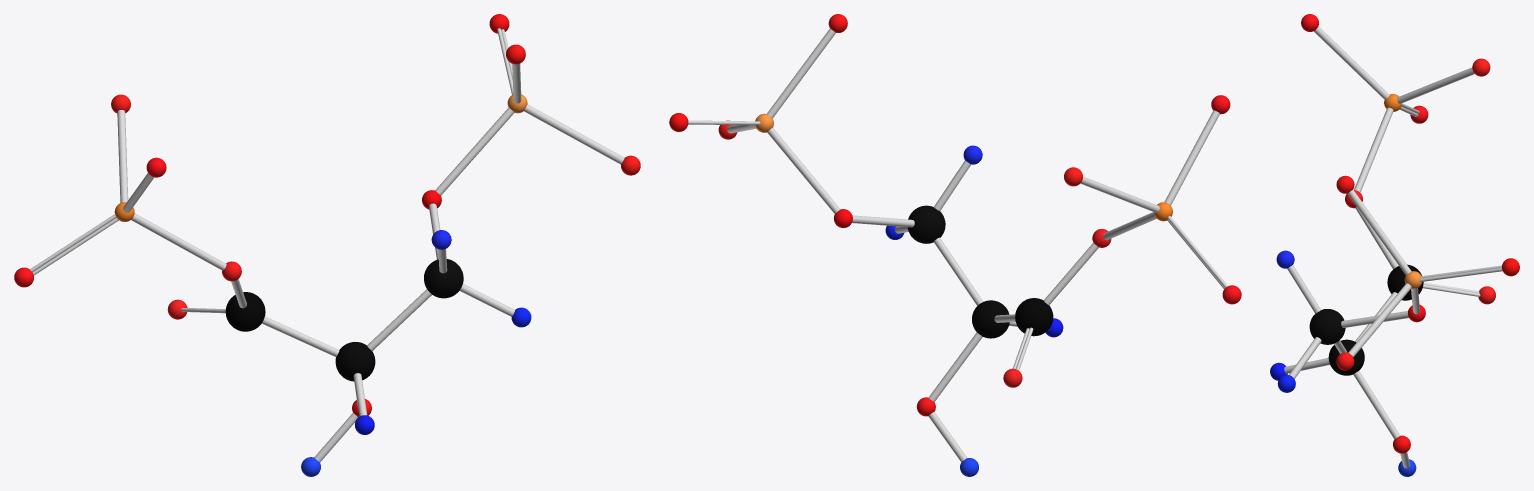
Rendered from 1,3.Bisphospholycerate.fbx.
3 views of the same model, side by side, from view 1: azimuth 30°, elevation 25°; view 2: azimuth 150°, elevation 25°; view 3: azimuth 270°, elevation 25° (orthographic). The views are drawn at different scales.
Parts seen in each view (by area): view 1: Atom6_Clone_, Atom6_Clone___1_, Atom6_Clone___2_, Bond1_Clone___2_, Bond1_Clone_, Bond1_Clone___3_, Bond1_Clone___4_, Bond1_Clone___15_, Bond1_Clone___14_; view 2: Atom6_Clone___2_, Atom6_Clone___1_, Atom6_Clone_, Bond1_Clone___1_, Bond1_Clone_, Bond1_Clone___5_, Bond1_Clone___4_, Bond1_Clone___7_, Bond1_Clone___14_, Bond1_Clone___9_; view 3: Atom6_Clone___1_, Bond1_Clone___1_, Bond1_Clone___5_, Bond1_Clone___2_, Bond1_Clone___3_, Atom6_Clone_, Bond1_Clone___4_, Bond1_Clone___7_, Atom6_Clone___2_, Bond1_Clone___6_, Bond1_Clone___17_, Bond1_Clone___9_ (+5 smaller).
Part boxes in pixels (box(x1,y1,x2,y2)): Atom6_Clone_: box(335, 342, 375, 381); Atom6_Clone___1_: box(424, 259, 463, 298); Atom6_Clone___2_: box(225, 292, 265, 331); Bond1_Clone___2_: box(524, 104, 624, 164); Bond1_Clone_: box(435, 107, 514, 195); Bond1_Clone___3_: box(131, 213, 226, 270); Bond1_Clone___4_: box(117, 110, 128, 202); Bond1_Clone___15_: box(262, 316, 339, 356); Bond1_Clone___14_: box(367, 289, 431, 351); Atom6_Clone___2_: box(1015, 298, 1053, 336); Atom6_Clone___1_: box(907, 205, 945, 243); Atom6_Clone_: box(972, 300, 1009, 338); Bond1_Clone___1_: box(767, 28, 835, 118); Bond1_Clone_: box(767, 127, 840, 213); Bond1_Clone___5_: box(1164, 110, 1219, 205); Bond1_Clone___4_: box(1080, 176, 1159, 212); Bond1_Clone___7_: box(928, 332, 982, 401); Bond1_Clone___14_: box(934, 237, 983, 305); Bond1_Clone___9_: box(1043, 242, 1098, 305); Atom6_Clone___1_: box(1309, 309, 1345, 344); Bond1_Clone___1_: box(1347, 189, 1411, 274); Bond1_Clone___5_: box(1314, 26, 1389, 99); Bond1_Clone___2_: box(1348, 283, 1411, 357); Bond1_Clone___3_: box(1354, 107, 1393, 192); Atom6_Clone_: box(1328, 339, 1364, 375); Bond1_Clone___4_: box(1397, 67, 1474, 103); Bond1_Clone___7_: box(1353, 371, 1400, 439); Atom6_Clone___2_: box(1387, 264, 1423, 300); Bond1_Clone___6_: box(1341, 311, 1408, 327); Bond1_Clone___17_: box(1287, 265, 1320, 313); Bond1_Clone___9_: box(1355, 207, 1398, 269).
Bounding box in the file's own units: 842 × 571 × 345.
